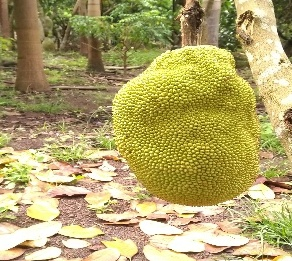Mit: (107, 36, 267, 205)
